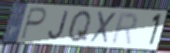1: (147, 13, 163, 49)
J: (47, 9, 70, 41)
P: (19, 5, 48, 42)
Q: (66, 9, 93, 44)
R: (110, 11, 139, 46)
X: (87, 10, 118, 46)
